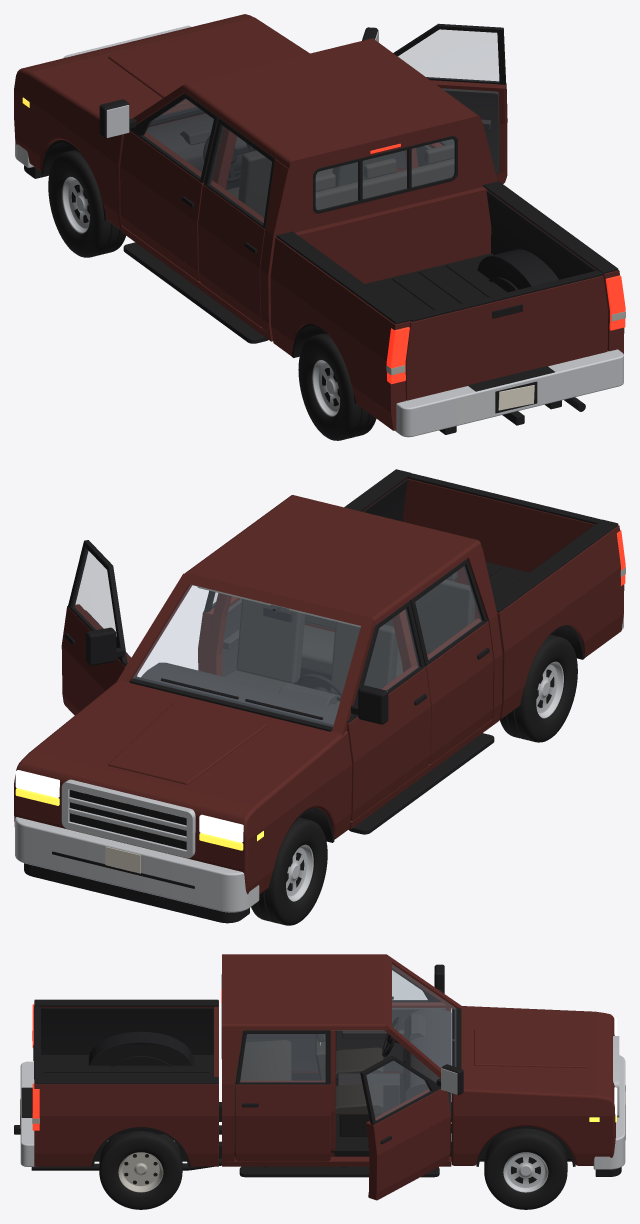
File: truck.glb
The picture shows the model from 3 angles, top to bottom: view 1: azimuth 30°, elevation 25°; view 2: azimuth 150°, elevation 25°; view 3: azimuth 270°, elevation 25°; orthographic projection. The views are drawn at different scales.
Visible parts, largest first — view 1: truck, passenger_door; view 2: truck, passenger_door; view 3: truck, passenger_door.
Boxes of the visible parts, x1,y1,x2,y2 form: truck: [14, 14, 625, 440]; passenger_door: [362, 23, 507, 183]; truck: [14, 469, 625, 925]; passenger_door: [61, 540, 137, 715]; truck: [14, 954, 625, 1209]; passenger_door: [360, 1055, 463, 1200].
Size of the model in its own units: 3.12 by 1.9 by 5.88.
